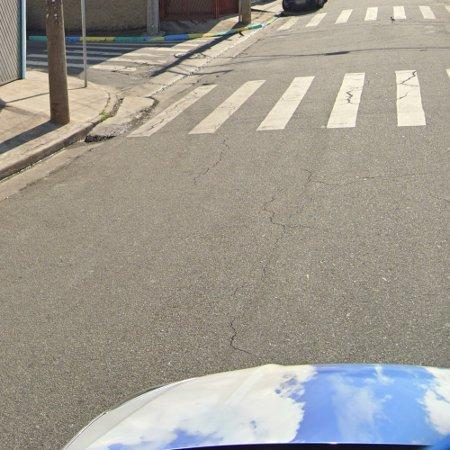crosswalks: (101, 70, 450, 136)
